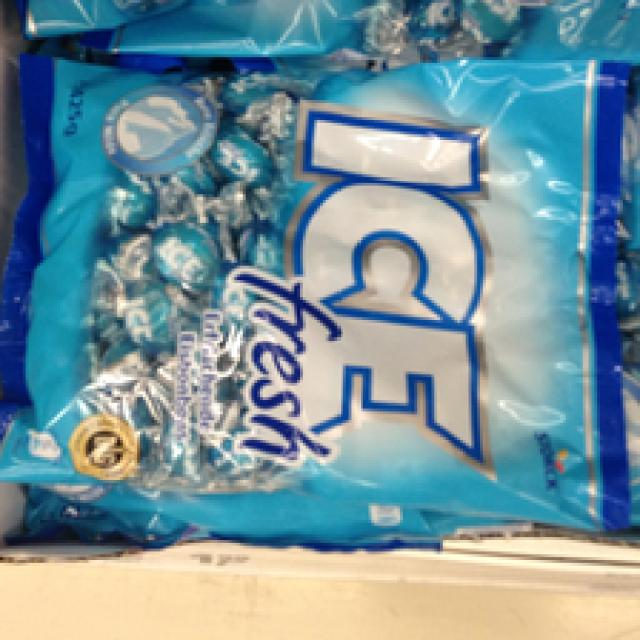groceries: (14, 49, 614, 528)
